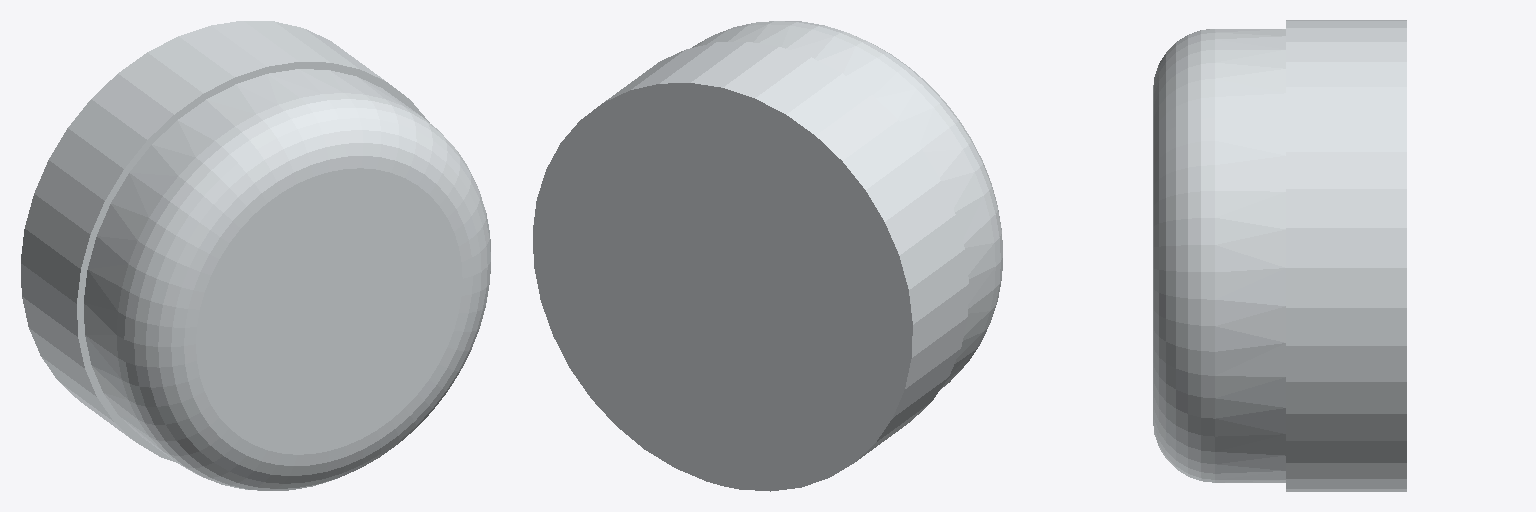
The robot description file, URDF, robot "jetson_bot_urdf":
<robot
  name="jetson_bot_urdf">
  <link
    name="base_link">
    <inertial>
      <origin
        xyz="-0.0023923 -0.019862 0.15073"
        rpy="0 0 0" />
      <mass
        value="7.7466" />
      <inertia
        ixx="0.18126"
        ixy="0.0002452"
        ixz="0.0032986"
        iyy="0.19288"
        iyz="-0.017305"
        izz="0.094914" />
    </inertial>
    <visual>
      <origin
        xyz="0 0 0"
        rpy="0 0 1.5708" />
      <geometry>
        <mesh
          filename="package://jetson_bot_urdf/meshes/base_link.STL" />
      </geometry>
      <material
        name="">
        <color
          rgba="0.79216 0.81961 0.93333 1" />
      </material>
    </visual>
    <collision>
      <origin
        xyz="0 0 0"
        rpy="0 0 0" />
      <geometry>
        <mesh
          filename="package://jetson_bot_urdf/meshes/base_link.STL" />
      </geometry>
    </collision>
  </link>
  <link
    name="laser">
    <inertial>
      <origin
        xyz="-3.6618E-35 0.019534 -9.8108E-19"
        rpy="0 0 0" />
      <mass
        value="0.4651" />
      <inertia
        ixx="0.00021948"
        ixy="-4.8382E-37"
        ixz="-6.195E-37"
        iyy="0.00031518"
        iyz="8.2852E-21"
        izz="0.00021948" />
    </inertial>
    <visual>
      <origin
        xyz="0 0 0"
        rpy="1.5708 0 0" />
      <geometry>
        <mesh
          filename="package://jetson_bot_urdf/meshes/laser.STL" />
      </geometry>
      <material
        name="">
        <color
          rgba="0.89804 0.91765 0.92941 1" />
      </material>
    </visual>
    <collision>
      <origin
        xyz="0 0 0"
        rpy="0 0 0" />
      <geometry>
        <mesh
          filename="package://jetson_bot_urdf/meshes/laser.STL" />
      </geometry>
    </collision>
  </link>
  <joint
    name="laser_joint"
    type="fixed">
    <origin
      xyz="0 0 0.189738"
      rpy="1.5707963267949 0 0" />
    <parent
      link="base_link" />
    <child
      link="laser" />
    <axis
      xyz="0 0 0" />
  </joint>
  <link
    name="camera_link">
    <inertial>
      <origin
        xyz="-1.1892798242584E-05 -0.00471049970558524 -0.0217483140477759"
        rpy="0 0 0" />
      <mass
        value="0.219988988845436" />
      <inertia
        ixx="7.33690677038934E-05"
        ixy="1.30989177138298E-08"
        ixz="5.38121515442941E-08"
        iyy="0.000428602035074722"
        iyz="-8.67208929243571E-06"
        izz="0.000429377926139386" />
    </inertial>
    <visual>
      <origin
        xyz="0 0 0"
        rpy="1.5708 0 1.5708" />
      <geometry>
        <mesh
          filename="package://jetson_bot_urdf/meshes/camera_link.STL" />
      </geometry>
      <material
        name="">
        <color
          rgba="0.792156862745098 0.819607843137255 0.933333333333333 1" />
      </material>
    </visual>
    <collision>
      <origin
        xyz="0 0 0"
        rpy="0 0 0" />
      <geometry>
        <mesh
          filename="package://jetson_bot_urdf/meshes/camera_link.STL" />
      </geometry>
    </collision>
  </link>
  <joint
    name="cl_joint"
    type="fixed">
    <origin
      xyz="0 0.05588 0.545338"
      rpy="1.5707963267949 0 0" />
    <parent
      link="base_link" />
    <child
      link="camera_link" />
    <axis
      xyz="0 0 0" />
  </joint>
  <!--<link
    name="camera_rgb_frame">
    <inertial>
      <origin
        xyz="-1.18927982425843E-05 -0.00471049970558524 -0.0217483140477759"
        rpy="0 0 0" />
      <mass
        value="0.219988988845436" />
      <inertia
        ixx="7.33690677038934E-05"
        ixy="1.30989177138323E-08"
        ixz="5.38121515442918E-08"
        iyy="0.000428602035074721"
        iyz="-8.67208929243571E-06"
        izz="0.000429377926139385" />
    </inertial>
    <visual>
      <origin
        xyz="0 0 0"
        rpy="0 0 0" />
      <geometry>
        <mesh
          filename="package://jetson_bot_urdf/meshes/camera_rgb_frame.STL" />
      </geometry>
      <material
        name="">
        <color
          rgba="0.792156862745098 0.819607843137255 0.933333333333333 1" />
      </material>
    </visual>
    <collision>
      <origin
        xyz="0 0 0"
        rpy="0 0 0" />
      <geometry>
        <mesh
          filename="package://jetson_bot_urdf/meshes/camera_rgb_frame.STL" />
      </geometry>
    </collision>
  </link>
  <joint
    name="crf_joint"
    type="fixed">
    <origin
      xyz="0 0 0"
      rpy="0 0 0" />
    <parent
      link="camera_link" />
    <child
      link="camera_rgb_frame" />
    <axis
      xyz="0 0 0" />
  </joint>
  <link
    name="camera_rgb_optical_frame">
    <inertial>
      <origin
        xyz="-1.18927982425841E-05 -0.00471049970558524 -0.0217483140477759"
        rpy="0 0 0" />
      <mass
        value="0.219988988845436" />
      <inertia
        ixx="7.33690677038934E-05"
        ixy="1.30989177138295E-08"
        ixz="5.38121515442927E-08"
        iyy="0.000428602035074721"
        iyz="-8.67208929243571E-06"
        izz="0.000429377926139386" />
    </inertial>
    <visual>
      <origin
        xyz="0 0 0"
        rpy="0 0 0" />
      <geometry>
        <mesh
          filename="package://jetson_bot_urdf/meshes/camera_rgb_optical_frame.STL" />
      </geometry>
      <material
        name="">
        <color
          rgba="0.792156862745098 0.819607843137255 0.933333333333333 1" />
      </material>
    </visual>
    <collision>
      <origin
        xyz="0 0 0"
        rpy="0 0 0" />
      <geometry>
        <mesh
          filename="package://jetson_bot_urdf/meshes/camera_rgb_optical_frame.STL" />
      </geometry>
    </collision>
  </link>
  <joint
    name="crof_joint"
    type="fixed">
    <origin
      xyz="0 0 0"
      rpy="0 0 0" />
    <parent
      link="camera_rgb_frame" />
    <child
      link="camera_rgb_optical_frame" />
    <axis
      xyz="0 0 0" />
  </joint>
  <link
    name="camera_depth_frame">
    <inertial>
      <origin
        xyz="-1.18927982425839E-05 -0.00471049970558513 -0.0217483140477759"
        rpy="0 0 0" />
      <mass
        value="0.219988988845436" />
      <inertia
        ixx="7.33690677038936E-05"
        ixy="1.30989177138306E-08"
        ixz="5.38121515442926E-08"
        iyy="0.000428602035074721"
        iyz="-8.67208929243574E-06"
        izz="0.000429377926139386" />
    </inertial>
    <visual>
      <origin
        xyz="0 0 0"
        rpy="0 0 0" />
      <geometry>
        <mesh
          filename="package://jetson_bot_urdf/meshes/camera_depth_frame.STL" />
      </geometry>
      <material
        name="">
        <color
          rgba="0.792156862745098 0.819607843137255 0.933333333333333 1" />
      </material>
    </visual>
    <collision>
      <origin
        xyz="0 0 0"
        rpy="0 0 0" />
      <geometry>
        <mesh
          filename="package://jetson_bot_urdf/meshes/camera_depth_frame.STL" />
      </geometry>
    </collision>
  </link>
  <joint
    name="cdf_joint"
    type="fixed">
    <origin
      xyz="0 0 0"
      rpy="0 0 0" />
    <parent
      link="camera_link" />
    <child
      link="camera_depth_frame" />
    <axis
      xyz="0 0 0" />
  </joint>
  <link
    name="camera_depth_optical_frame">
    <inertial>
      <origin
        xyz="-1.1892798242584E-05 -0.00471049970558513 -0.0217483140477759"
        rpy="0 0 0" />
      <mass
        value="0.219988988845436" />
      <inertia
        ixx="7.33690677038936E-05"
        ixy="1.30989177138288E-08"
        ixz="5.38121515442928E-08"
        iyy="0.000428602035074721"
        iyz="-8.67208929243574E-06"
        izz="0.000429377926139386" />
    </inertial>
    <visual>
      <origin
        xyz="0 0 0"
        rpy="0 0 0" />
      <geometry>
        <mesh
          filename="package://jetson_bot_urdf/meshes/camera_depth_optical_frame.STL" />
      </geometry>
      <material
        name="">
        <color
          rgba="0.792156862745098 0.819607843137255 0.933333333333333 1" />
      </material>
    </visual>
    <collision>
      <origin
        xyz="0 0 0"
        rpy="0 0 0" />
      <geometry>
        <mesh
          filename="package://jetson_bot_urdf/meshes/camera_depth_optical_frame.STL" />
      </geometry>
    </collision>
  </link>
  <joint
    name="cdof_joint"
    type="fixed">
    <origin
      xyz="0 0 0"
      rpy="0 0 0" />
    <parent
      link="camera_depth_frame" />
    <child
      link="camera_depth_optical_frame" />
    <axis
      xyz="0 0 0" />
  </joint> -->
</robot>

--- Facts derived from the render (not from the file) ---
The picture shows the robot from 3 angles, left to right: view 1: azimuth 30°, elevation 25°; view 2: azimuth 150°, elevation 25°; view 3: azimuth 270°, elevation 25°; orthographic projection.
Robot: jetson_bot_urdf — 3 links, 2 joints (2 fixed); root link base_link; default pose: all joints at 0.
Links seen in each view (by area): view 1: laser; view 2: laser; view 3: laser.
Boxes of the visible links, x1,y1,x2,y2 form: laser: (21,21,490,490); laser: (533,21,1002,491); laser: (1153,20,1406,491).
Bounding box of the posed robot: 0.0756 × 0.0408 × 0.0757 m (x, y, z).
1 mesh visuals loaded from 3 distinct referenced files (1 binary STL); not drawn: 2 (reference not matched to a file when rendering).